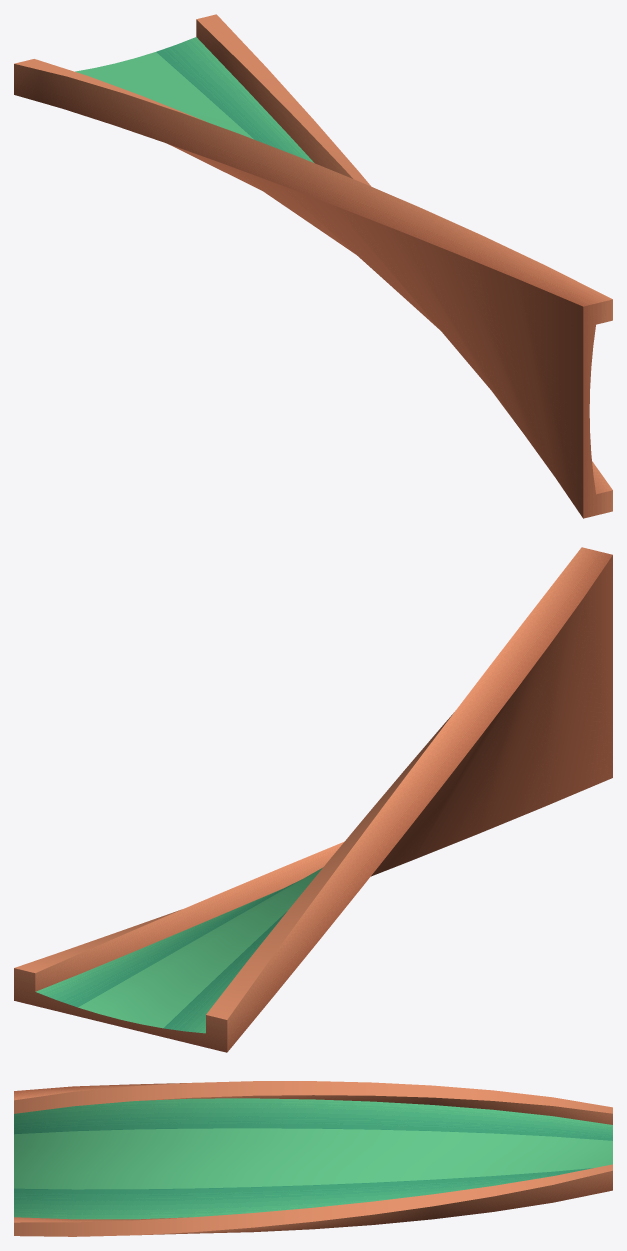
Rendered from spline_concave_straight_skew_left_side.glb.
3 renders of one model, top to bottom at view 1: azimuth 30°, elevation 25°; view 2: azimuth 150°, elevation 25°; view 3: azimuth 270°, elevation 25°, orthographic. The views are drawn at different scales.
Visible parts, largest first — view 1: spline-concave-straight-skew-left-side; view 2: spline-concave-straight-skew-left-side; view 3: spline-concave-straight-skew-left-side.
Part boxes in pixels (x1,y1,x2,y2): spline-concave-straight-skew-left-side: [14, 14, 612, 518]; spline-concave-straight-skew-left-side: [14, 547, 612, 1052]; spline-concave-straight-skew-left-side: [14, 1081, 612, 1236].
Size of the model in its own units: 1.02 by 1.02 by 4.
Materials: 1 (1 with a texture image).
